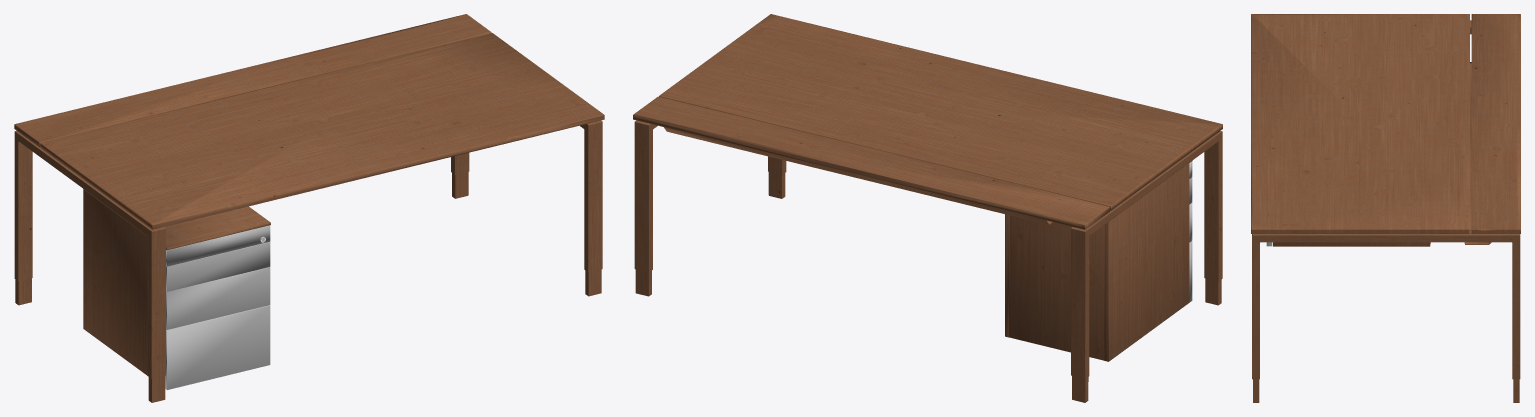
File: drawer_desk_opt.glb
3 views of the same model, side by side, from view 1: azimuth 30°, elevation 25°; view 2: azimuth 150°, elevation 25°; view 3: azimuth 270°, elevation 25° (orthographic). The views are drawn at different scales.
Parts seen in each view (by area): view 1: Drawer Desk; view 2: Drawer Desk; view 3: Drawer Desk.
Part boxes in pixels (<box>): Drawer Desk: <box>14,14,604,402</box>; Drawer Desk: <box>633,14,1222,402</box>; Drawer Desk: <box>1251,14,1520,402</box>.
Size of the model in its own units: 1.87 by 0.7048 by 0.988.
1 material, 1 textured.
